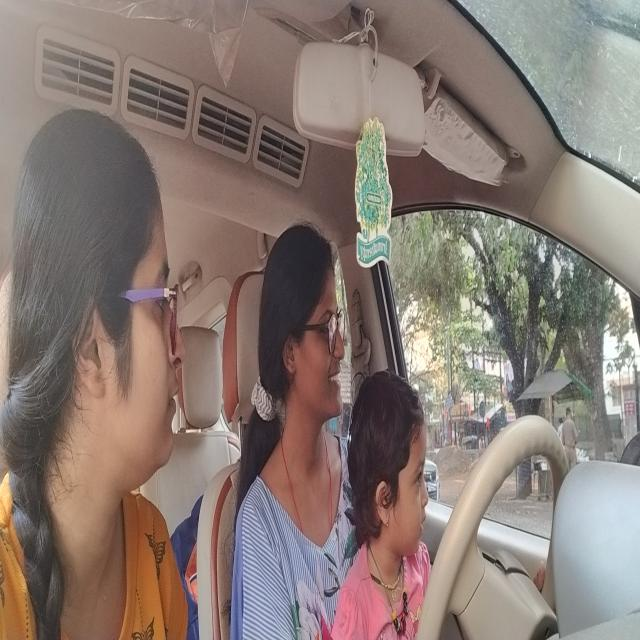child: (345, 354, 431, 562)
person: (14, 104, 185, 498), (256, 212, 345, 446)
